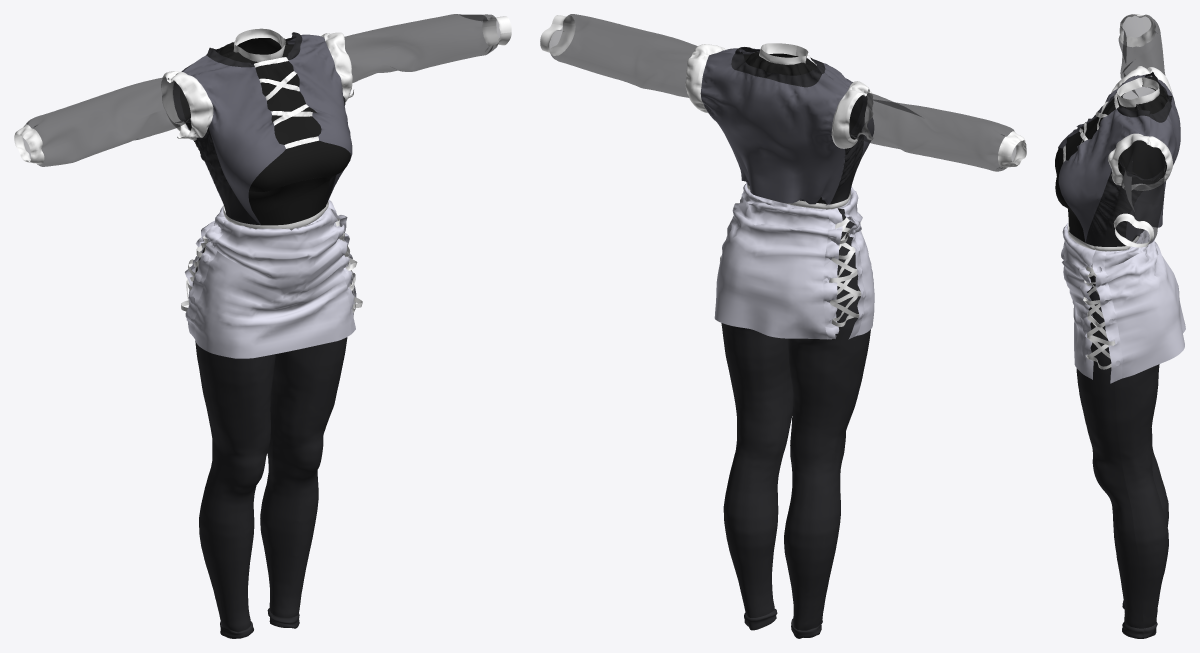
File: G_clothe9_new.glb
The picture shows the model from 3 angles, left to right: view 1: azimuth 30°, elevation 25°; view 2: azimuth 150°, elevation 25°; view 3: azimuth 270°, elevation 25°; orthographic projection. The views are drawn at different scales.
Parts seen in each view (by area): view 1: Garment; view 2: Garment; view 3: Garment.
Boxes of the visible parts, x1,y1,x2,y2 form: Garment: (14,14,511,638); Garment: (540,14,1026,638); Garment: (1055,14,1185,638).
Size of the model in its own units: 1.15 by 1.35 by 0.2986.
1 material, 1 textured.
